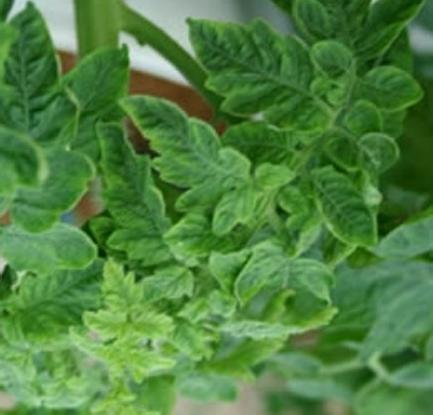Tomato leaf mosaic virus: (119, 89, 271, 209), (179, 15, 328, 132), (0, 258, 118, 353), (95, 125, 172, 270), (0, 1, 63, 138), (306, 163, 379, 254), (0, 216, 98, 275), (154, 214, 244, 264), (228, 239, 293, 308), (353, 61, 416, 114)
